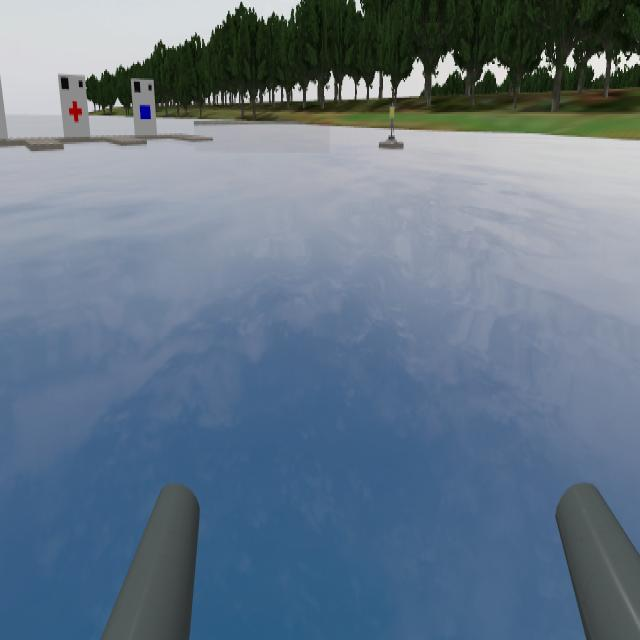yellow_pole: (387, 100, 400, 126)
